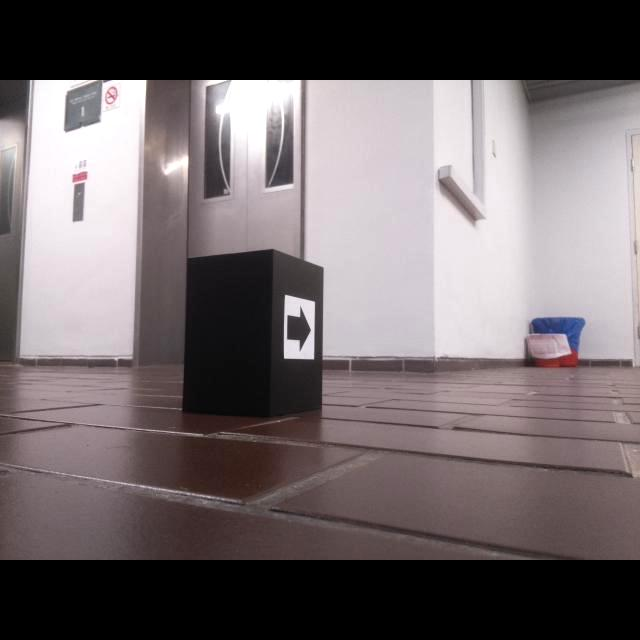RIGHT: (287, 308, 311, 350)
